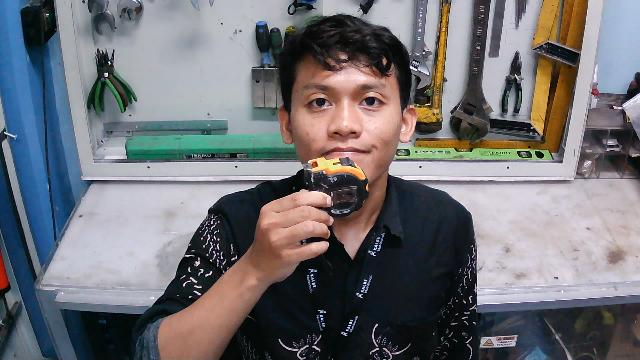meteran: (296, 151, 373, 220)
